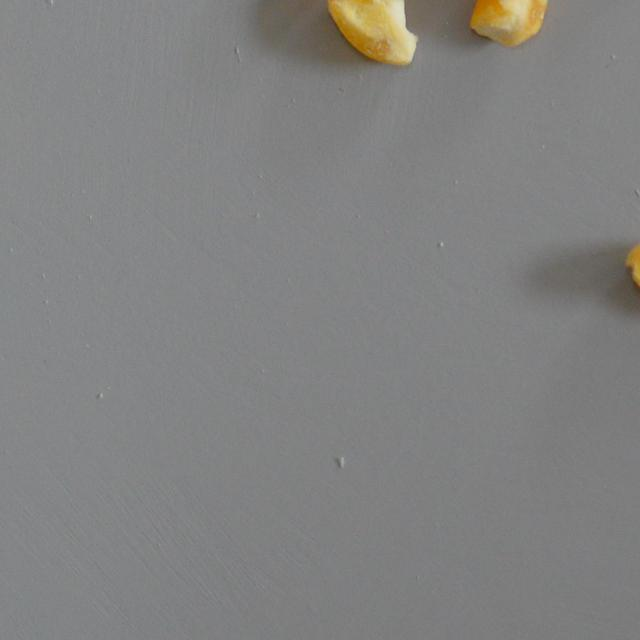estandar: (466, 0, 554, 48)
pelicula: (321, 0, 418, 66), (622, 238, 640, 316)
